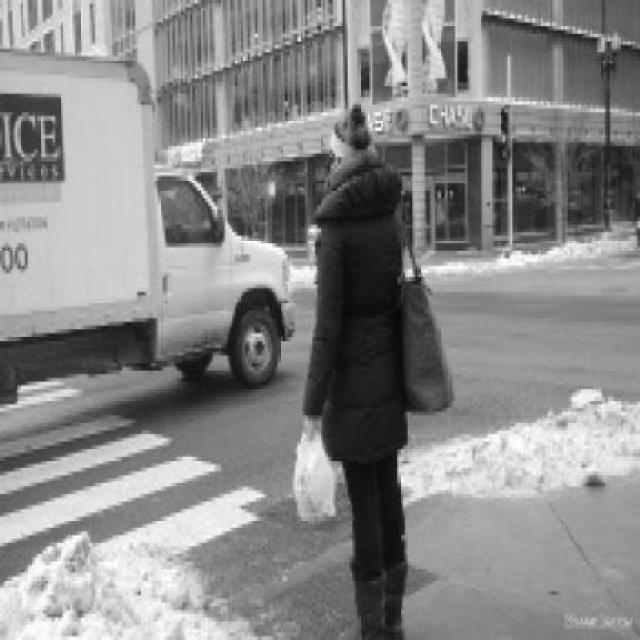Box Truck: (0, 48, 294, 403)
